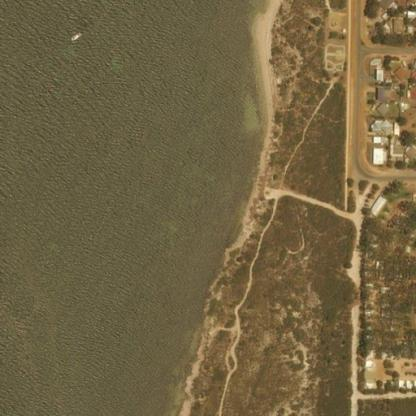ship: (66, 26, 84, 45)
